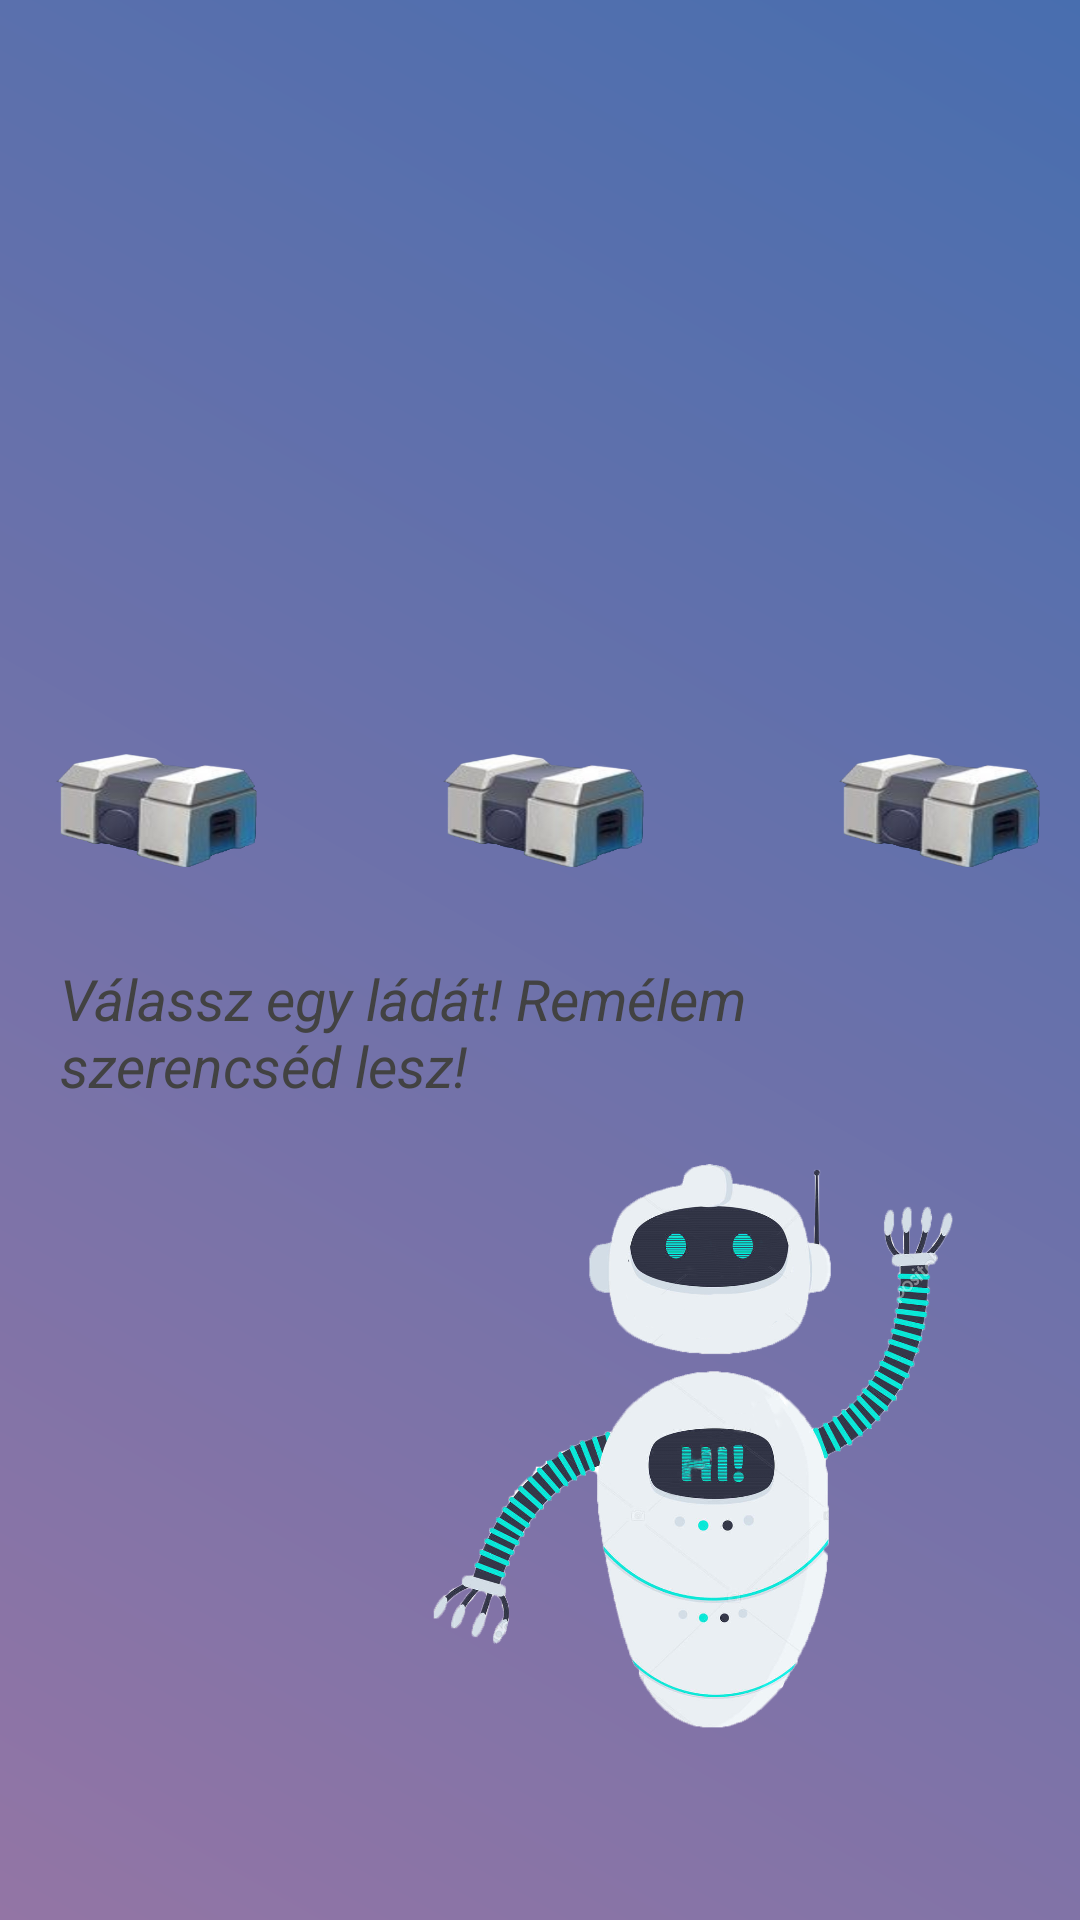

Icons on this 1080 x 1920 Android screen, each with the point to tap as (x,y):
box: (157,810), (544,810), (940,810)
